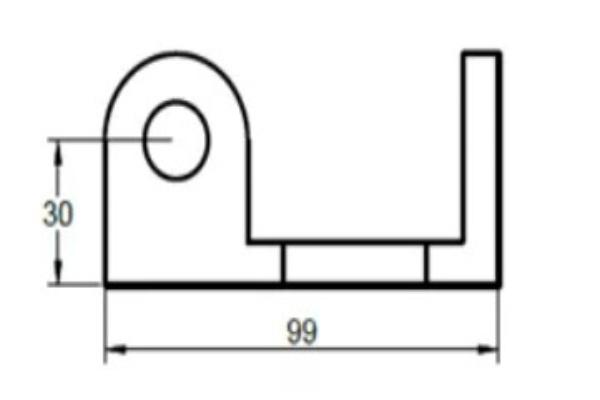dimensions: (30, 196, 78, 234), (280, 308, 324, 346)
